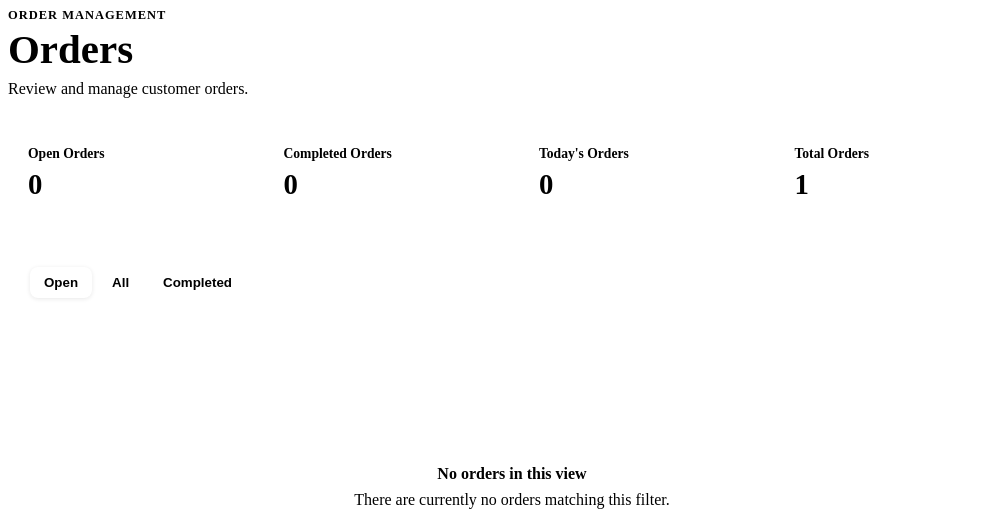
OrdersDashboard › shows a filter-specific empty state when orders exist but none match
Expected: the text "No orders in this view" is shown, [437,465,587,483]
Expected: the text "There are currently no orders matching this filter." is shown, [354,491,670,509]
Click the button "All" at (121, 283), box [98,267,143,298]
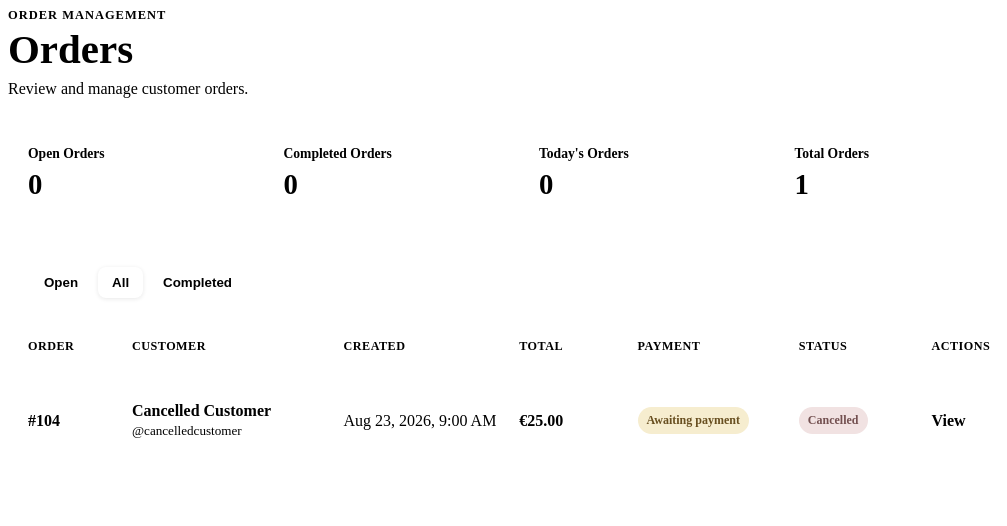
Expected: the text "#104" is shown, [28,402,966,438]
